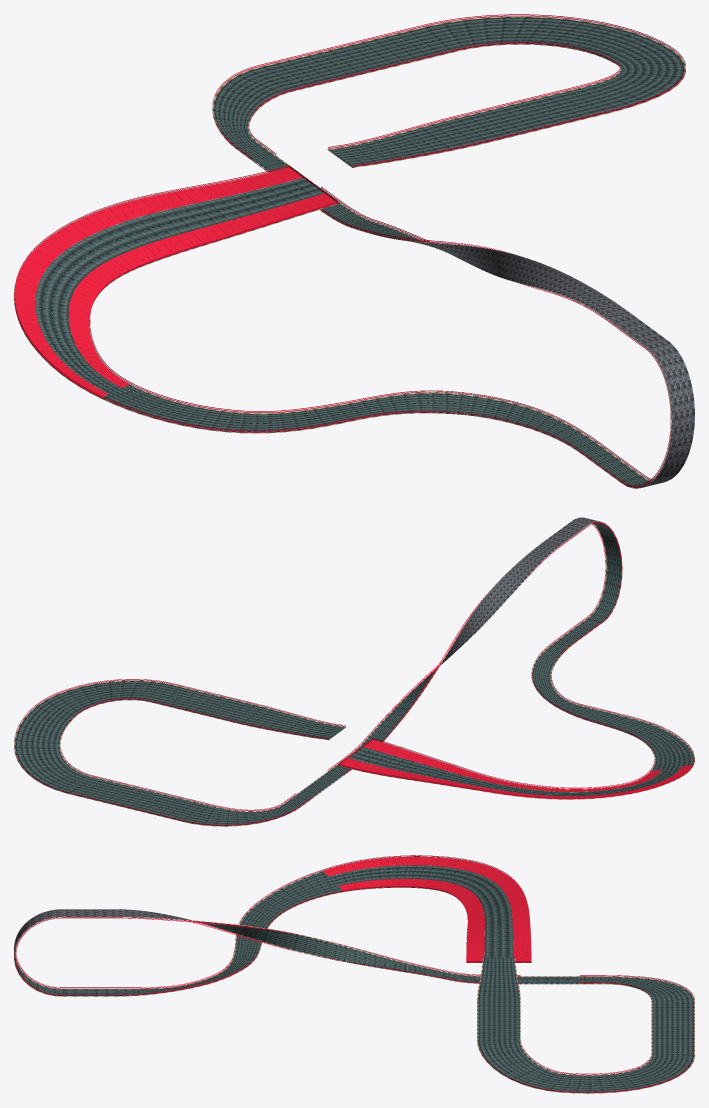
3 renders of one model, top to bottom at view 1: azimuth 30°, elevation 25°; view 2: azimuth 150°, elevation 25°; view 3: azimuth 270°, elevation 25°, orthographic. The views are drawn at different scales.
Parts seen in each view (by area): view 1: C01_ROAD02, C01_POWER_UP, C01_ROAD04, C01_ROAD06, C01_ROAD01, C01_ROAD07, C01_ROAD05, C01_ROAD03, C01_ROAD08, C01_GUARDRAIL02, C01_ROAD10, C01_GUARDRAIL04 (+5 smaller); view 2: C01_ROAD02, C01_POWER_UP, C01_ROAD01, C01_ROAD04, C01_ROAD07, C01_ROAD06, C01_ROAD08, C01_ROAD05, C01_ROAD03, C01_ROAD10, C01_GUARDRAIL04, C01_GUARDRAIL02 (+2 smaller); view 3: C01_ROAD02, C01_POWER_UP, C01_ROAD04, C01_ROAD05, C01_ROAD01, C01_ROAD03, C01_ROAD06, C01_ROAD07, C01_ROAD10, C01_ROAD09, C01_ROAD08, C01_GUARDRAIL07 (+6 smaller).
Boxes of the visible parts, bbox=[...] form: C01_ROAD02: bbox=[340, 16, 685, 142]; C01_POWER_UP: bbox=[14, 167, 336, 397]; C01_ROAD04: bbox=[14, 177, 337, 353]; C01_ROAD06: bbox=[264, 392, 603, 453]; C01_ROAD01: bbox=[212, 47, 373, 162]; C01_ROAD07: bbox=[581, 311, 694, 487]; C01_ROAD05: bbox=[37, 352, 286, 433]; C01_ROAD03: bbox=[327, 118, 487, 167]; C01_ROAD08: bbox=[486, 248, 627, 316]; C01_GUARDRAIL02: bbox=[340, 14, 685, 141]; C01_ROAD10: bbox=[255, 157, 425, 242]; C01_GUARDRAIL04: bbox=[14, 165, 338, 352]; C01_ROAD02: bbox=[14, 680, 255, 808]; C01_POWER_UP: bbox=[339, 740, 692, 799]; C01_ROAD01: bbox=[128, 791, 313, 826]; C01_ROAD04: bbox=[338, 747, 668, 799]; C01_ROAD07: bbox=[544, 517, 622, 642]; C01_ROAD06: bbox=[531, 639, 650, 735]; C01_ROAD08: bbox=[461, 541, 559, 644]; C01_ROAD05: bbox=[631, 724, 694, 783]; C01_ROAD03: bbox=[233, 705, 345, 740]; C01_ROAD10: bbox=[298, 692, 422, 797]; C01_GUARDRAIL04: bbox=[338, 738, 668, 798]; C01_GUARDRAIL02: bbox=[14, 679, 256, 807]; C01_ROAD02: bbox=[477, 1002, 694, 1093]; C01_POWER_UP: bbox=[323, 856, 531, 961]; C01_ROAD04: bbox=[388, 856, 531, 962]; C01_ROAD05: bbox=[240, 858, 387, 924]; C01_ROAD01: bbox=[577, 976, 694, 1027]; C01_ROAD03: bbox=[477, 957, 520, 1002]; C01_ROAD06: bbox=[116, 922, 271, 996]; C01_ROAD07: bbox=[14, 909, 116, 996]; C01_ROAD10: bbox=[369, 953, 577, 983]; C01_ROAD09: bbox=[279, 932, 370, 966]; C01_ROAD08: bbox=[114, 909, 285, 947]; C01_GUARDRAIL07: bbox=[14, 916, 116, 996].
Size of the model in its own units: 2149 by 2501 by 364.
Materials: 76 (76 with a texture image).
